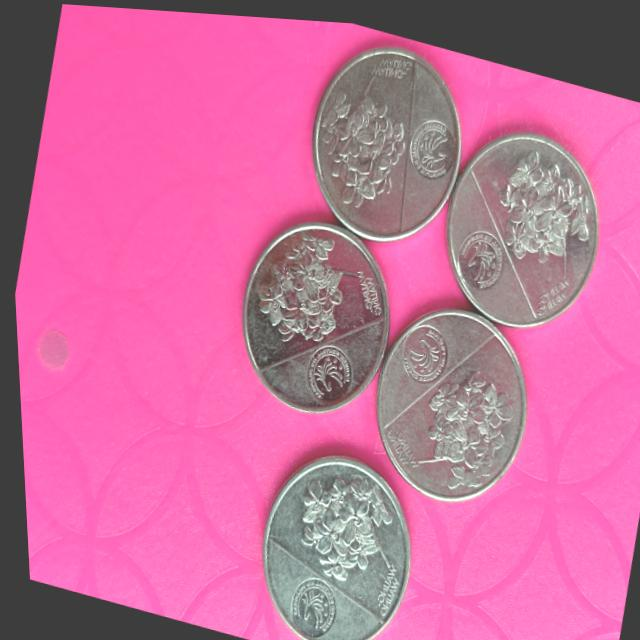1_New_Back: (470, 125, 607, 287), (297, 56, 422, 225), (239, 214, 370, 349), (269, 456, 401, 588), (396, 353, 519, 494)
